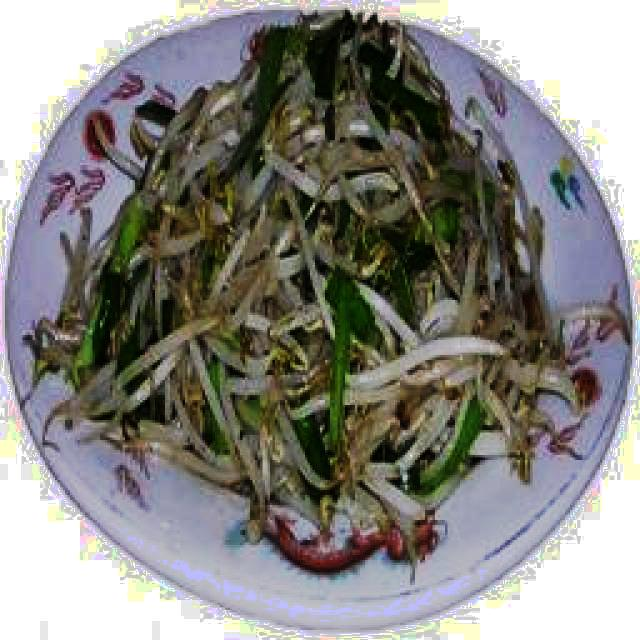mung_bean_sprouts: (66, 25, 547, 489)
